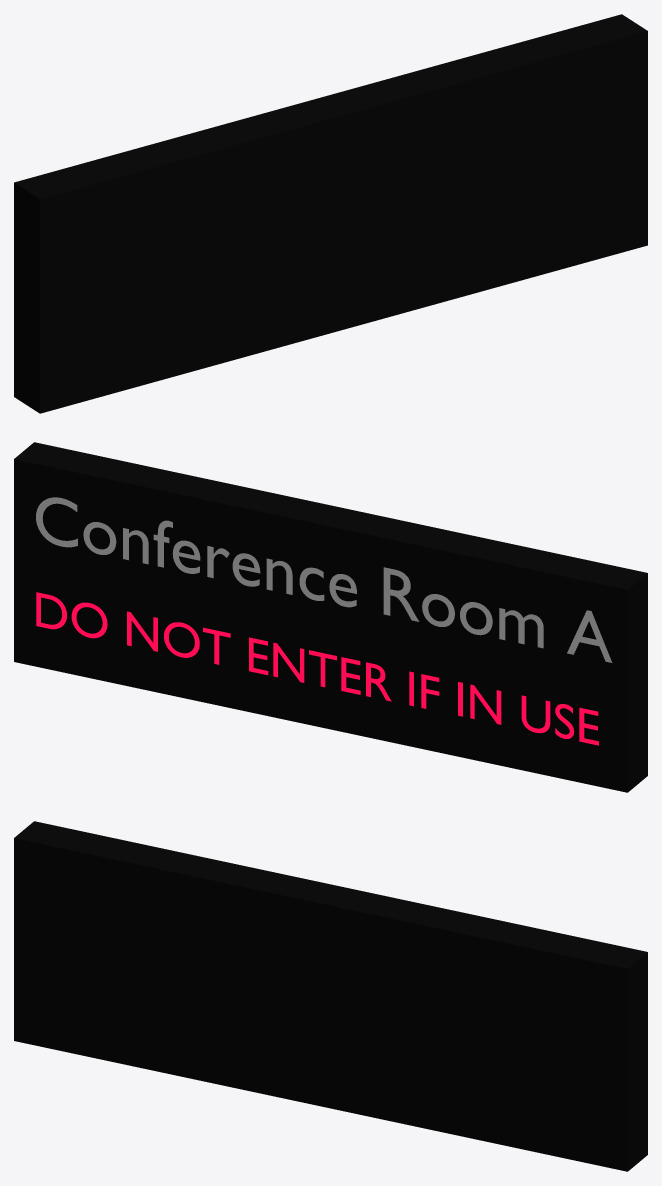
The model's file is RoomSign22KBCRA.fbx.
3 renders of one model, top to bottom at view 1: azimuth 30°, elevation 25°; view 2: azimuth 150°, elevation 25°; view 3: azimuth 330°, elevation 25°, orthographic. The views are drawn at different scales.
Visible parts, largest first — view 1: ConferenceRoomSign; view 2: ConferenceRoomSign, CRA, WARNING; view 3: ConferenceRoomSign.
Part boxes in pixels (x1,y1,x2,y2): ConferenceRoomSign: (14,14,647,413); ConferenceRoomSign: (14,442,647,792); CRA: (36,497,612,662); WARNING: (36,592,598,745); ConferenceRoomSign: (14,821,647,1171).
Size of the model in its own units: 200 by 65.12 by 25.1.
